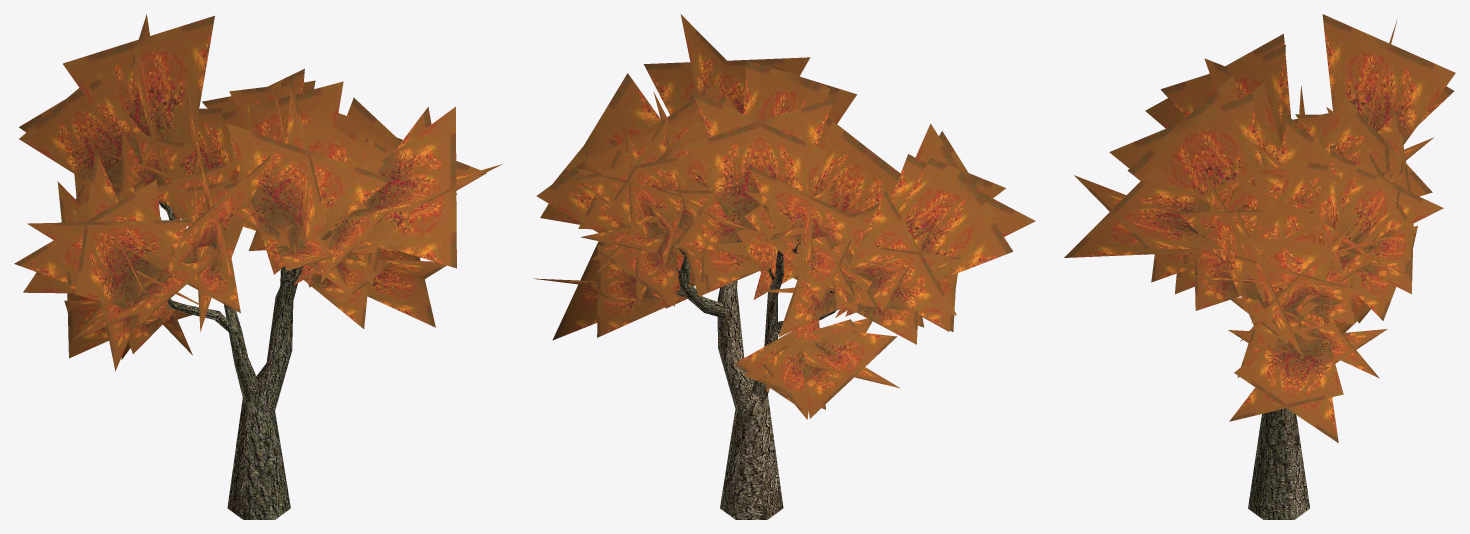
File: roble_otono_d.glb
The picture shows the model from 3 angles, left to right: view 1: azimuth 30°, elevation 25°; view 2: azimuth 150°, elevation 25°; view 3: azimuth 270°, elevation 25°; orthographic projection. The views are drawn at different scales.
Parts seen in each view (by area): view 1: Copa, Tronco; view 2: Copa, Tronco; view 3: Copa, Tronco.
Part boxes in pixels (box(x1,y1,x2,y2)): Copa: box(14, 14, 502, 371); Tronco: box(137, 201, 347, 519); Copa: box(533, 14, 1035, 419); Tronco: box(635, 211, 847, 519); Copa: box(1064, 14, 1455, 442); Tronco: box(1190, 229, 1350, 519).
Size of the model in its own units: 12.11 by 11.59 by 9.28.
2 materials, 2 textured.
